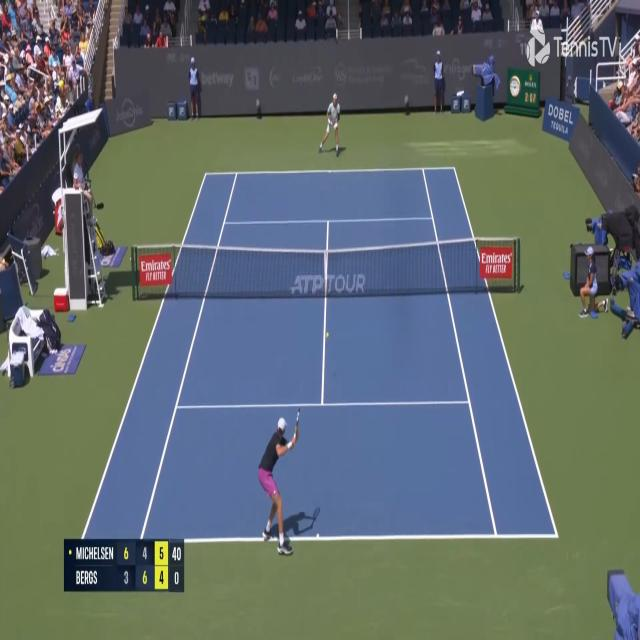tennis-player: (256, 411, 303, 558), (318, 90, 342, 158)
